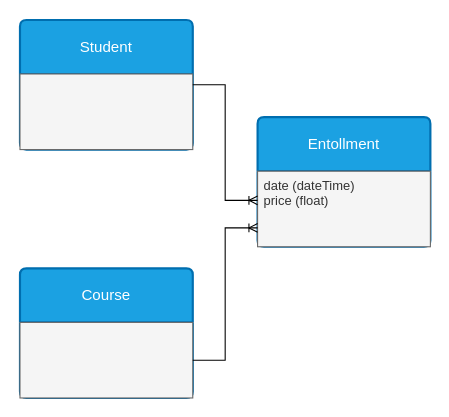
The diagram is 449 pixels wide and 417 high, and some of its shapes have lost their labels. The shapes that lost their labels are listed below. From the top down, each one's centre as x and y in pixels, then its label:
At point 106,111: "firstName (string) lastName (string) email (string) dateRegistered (dateTime)".
At point 106,359: "title (string) price (float) instructor (string) tags (string)".
